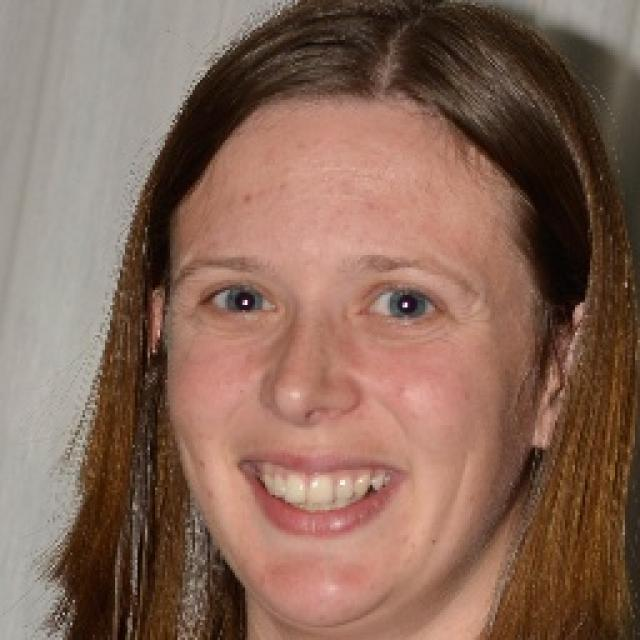earlobe: (529, 412, 560, 450)
eye: (364, 285, 442, 321), (199, 286, 278, 314)
nose: (263, 407, 351, 444)
wholeear: (531, 300, 595, 449)
